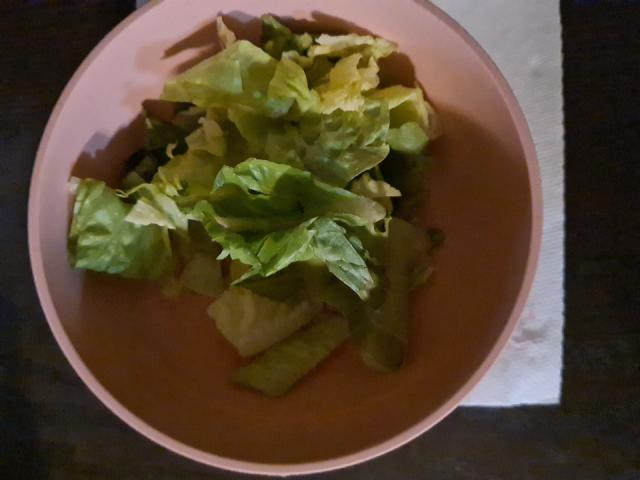kichen waste: (68, 13, 436, 394)
